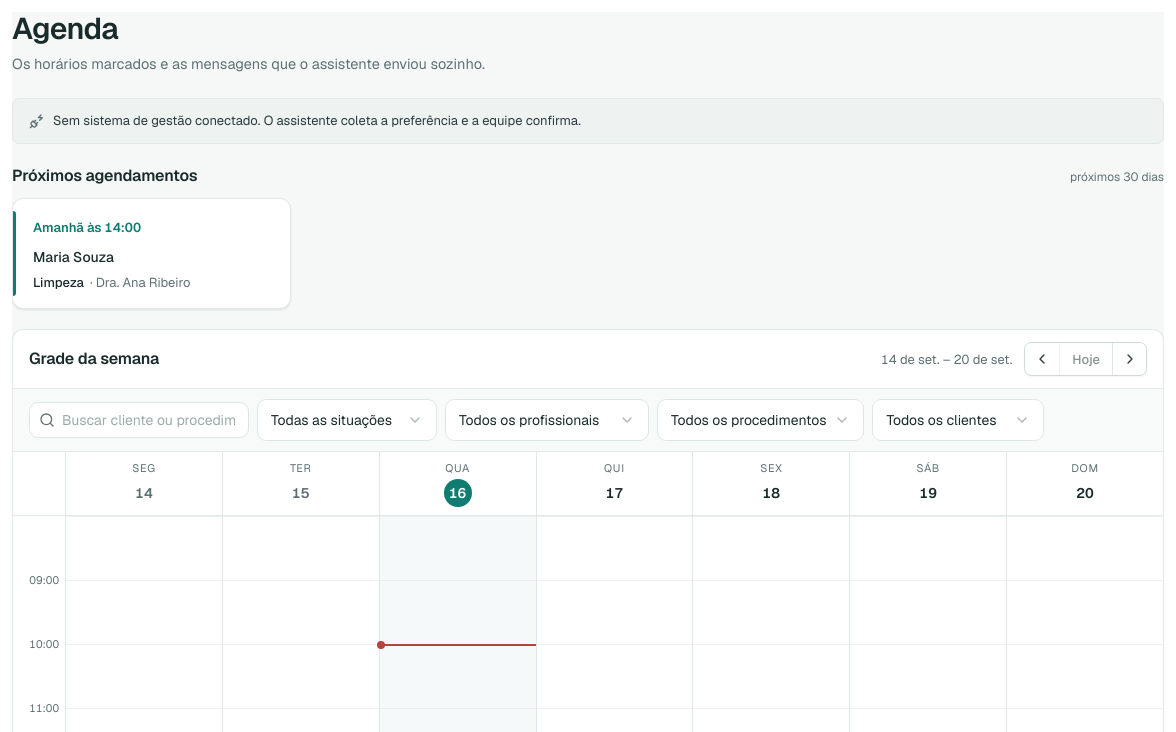
AgendaPage — semana › a grade vai de segunda a domingo, e o botão Hoje volta para a semana atual
Check: the text "14 de set. – 20 de set." is shown, box [881,350,1012,369]
Check: the button "Hoje" is disabled, box [1059,343,1112,375]
Click the button named "Próxima semana" at (1129, 359), box [1112,343,1146,375]
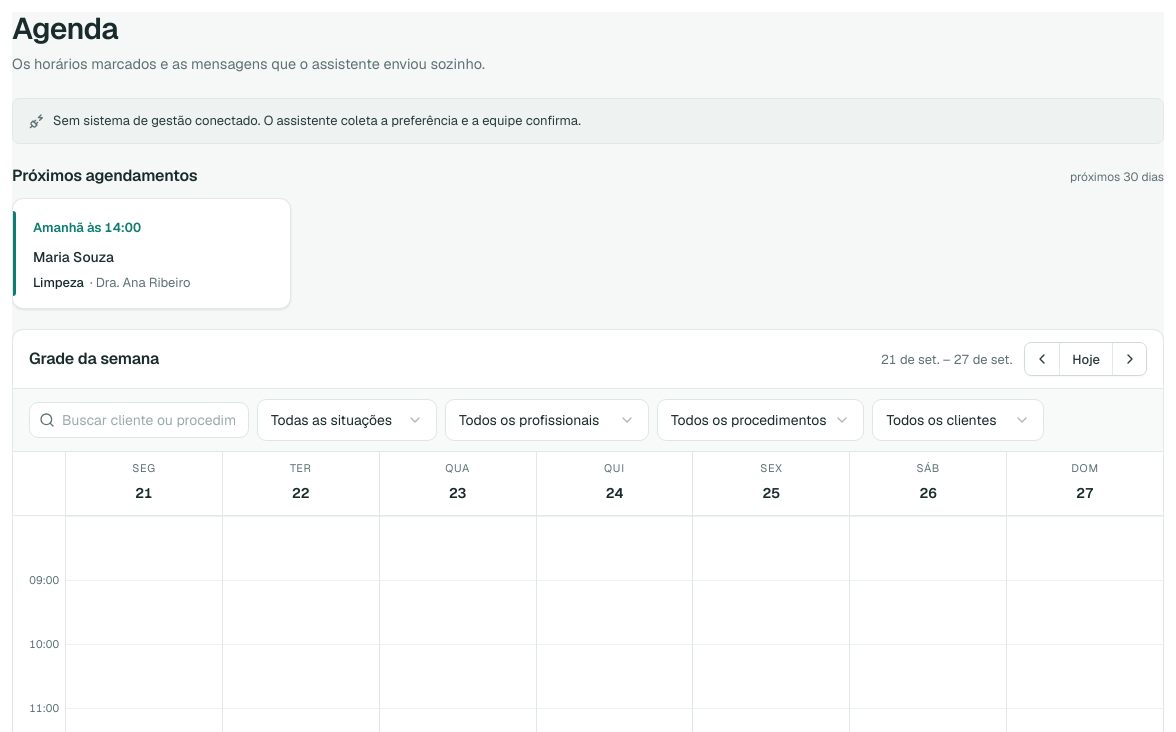
Check: the text "21 de set. – 27 de set." is shown, box [881,350,1012,369]
Check: the button "Hoje" is enabled
Click the button "Hoje" at (1086, 359), box [1059,343,1112,375]
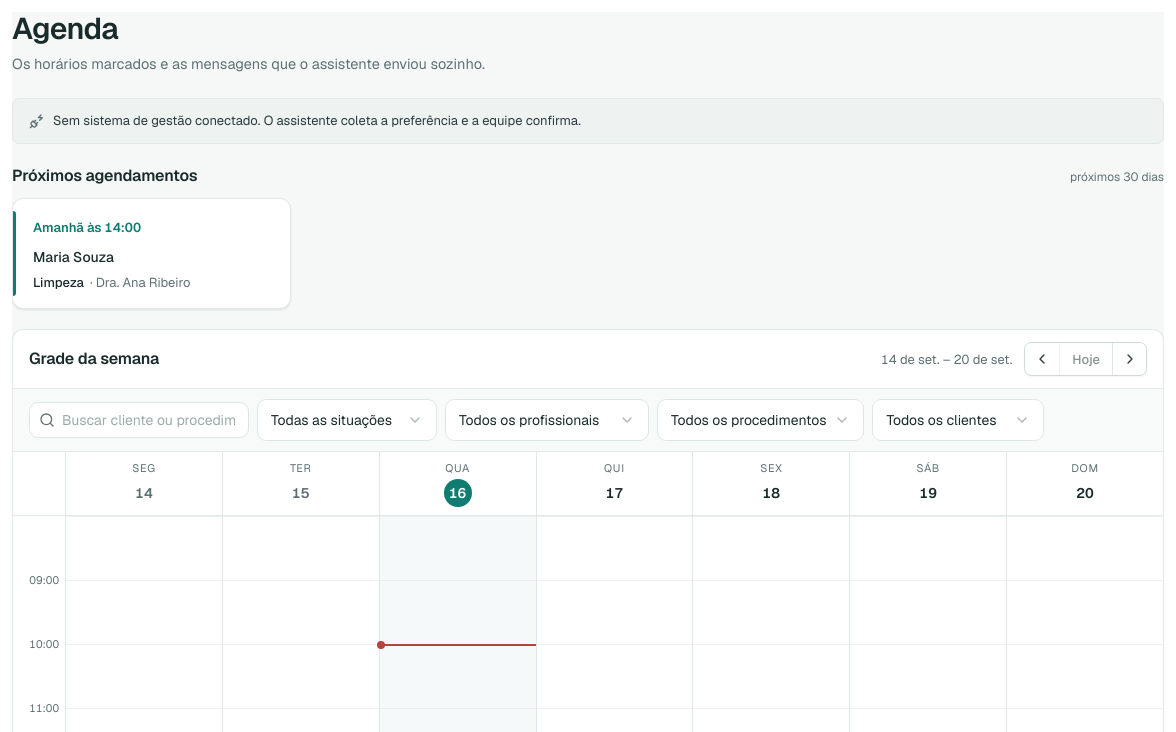
Check: the text "14 de set. – 20 de set." is shown, box [881,350,1012,369]
